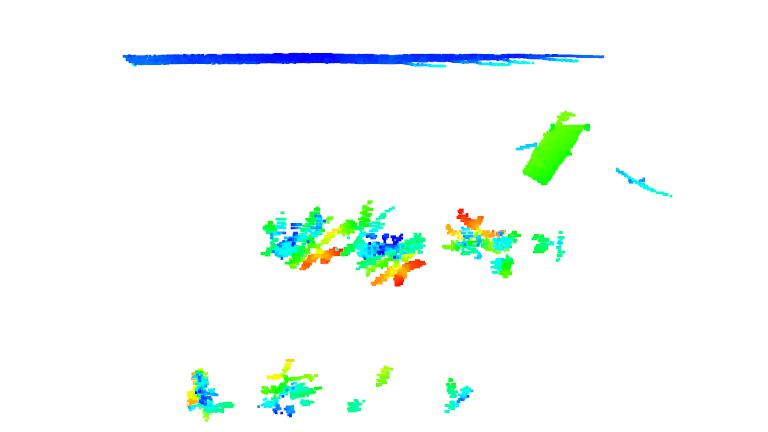chickpea: (438, 201, 569, 279), (253, 209, 329, 280), (255, 354, 323, 420), (331, 349, 396, 417), (325, 197, 378, 273), (366, 231, 431, 288), (175, 365, 236, 423), (442, 380, 480, 418)
